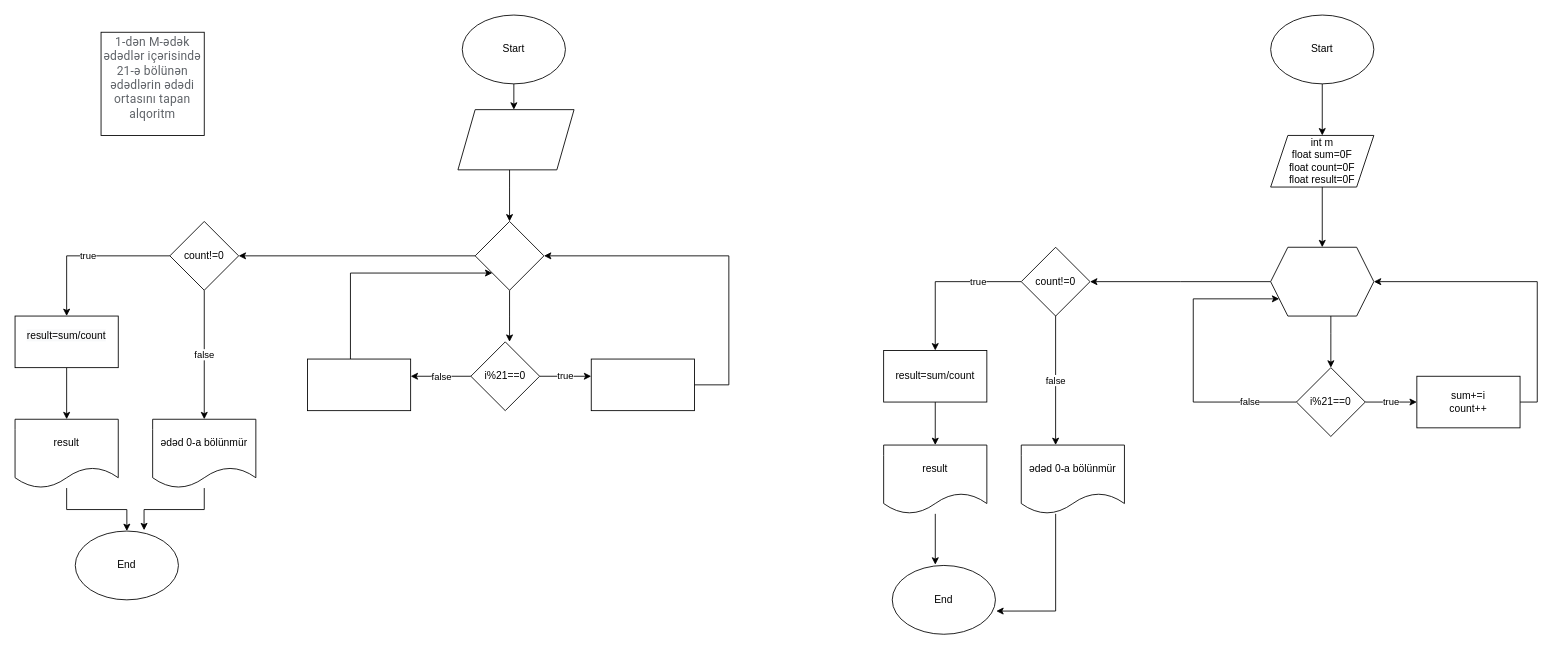
Some shapes in this 1559 by 649 pixel diagram are drawn without their labels. Each missing label, with the centre of its shape:
"i++" belongs at pixel 359 384.
"i<m" belongs at pixel 509 255.
"int i=1;i<m;i++" belongs at pixel 1322 281.
"int m int i=1 float sum=0F float count=0F float result=0F" belongs at pixel 515 139.
"sum+=i count++ i++" belongs at pixel 642 384.
